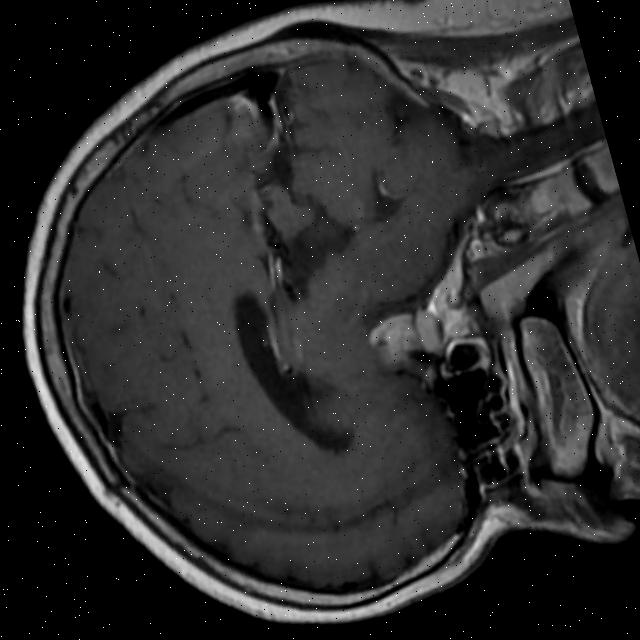Pituitary: (363, 302, 448, 374)
